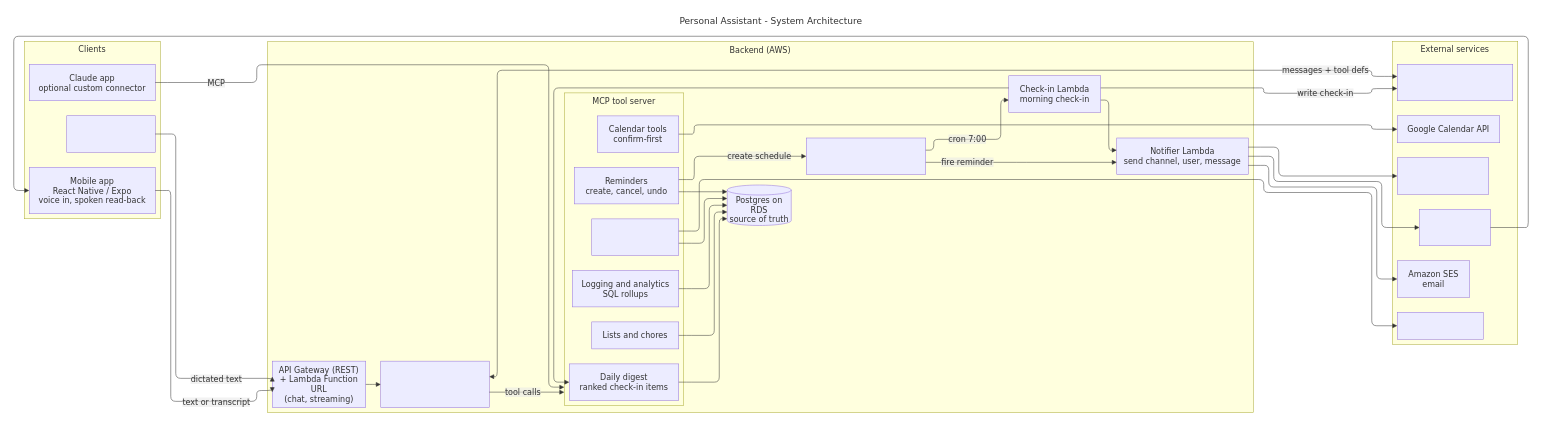
Some shapes in this 1542 by 422 pixel diagram are drawn without their labels. The centre of each missing label's shape, as x and y in pixels:
"Chat Lambda agent loop, history, SSE streaming" goes at [434,384].
"Claude API Sonnet chat, Haiku jobs" goes at [1455,82].
"Embeddings API" goes at [1440,325].
"EventBridge Scheduler one-off reminders + cron" goes at [866,156].
"Expo push APNs / FCM" goes at [1454,227].
"iOS Shortcut Hey Siri, dictate" goes at [110,133].
"Notes pgvector search" goes at [635,236].
"Twilio SMS, critical only" goes at [1443,175].
